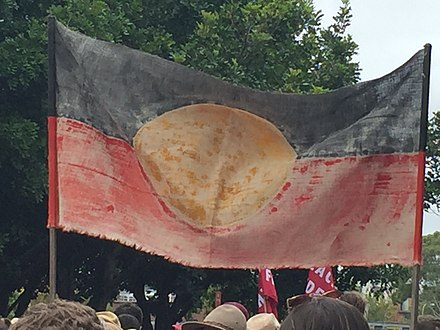aboriginal_flag: (40, 10, 439, 279)
